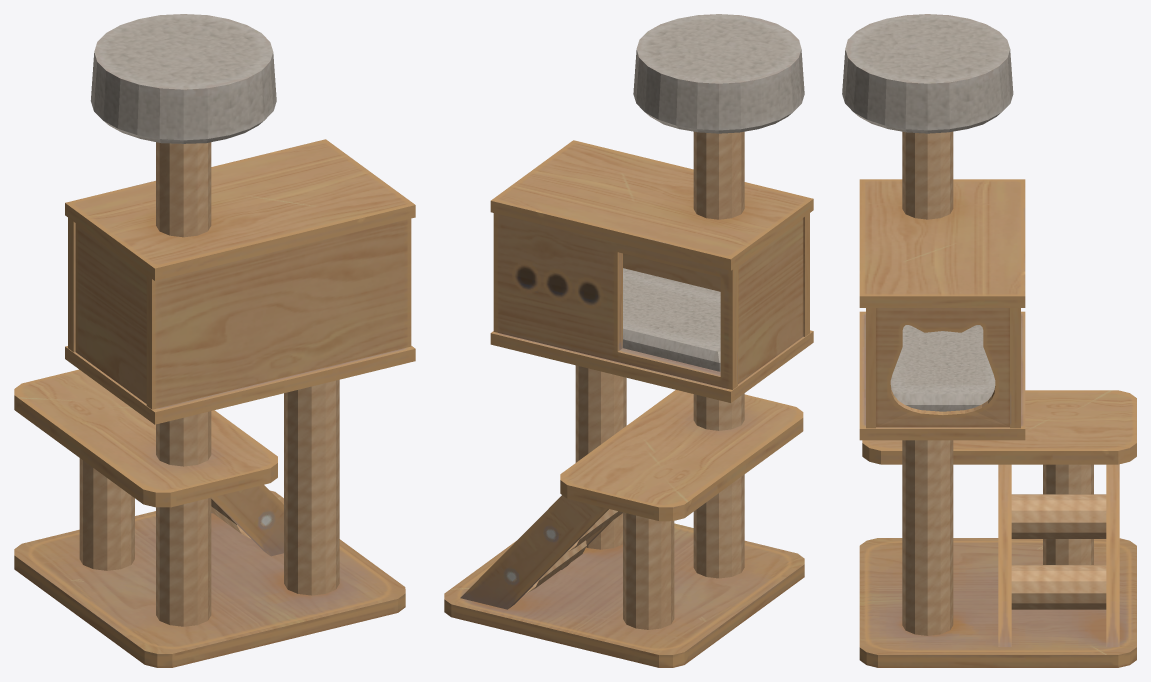
The model's file is P_CatTower_001_S1_M01.obj.
3 views of the same model, side by side, from view 1: azimuth 30°, elevation 25°; view 2: azimuth 150°, elevation 25°; view 3: azimuth 270°, elevation 25° (orthographic). The views are drawn at different scales.
Bounding box in the file's own units: 1.02 × 2.05 × 1.03.
Materials: 1 (1 with a texture image).
